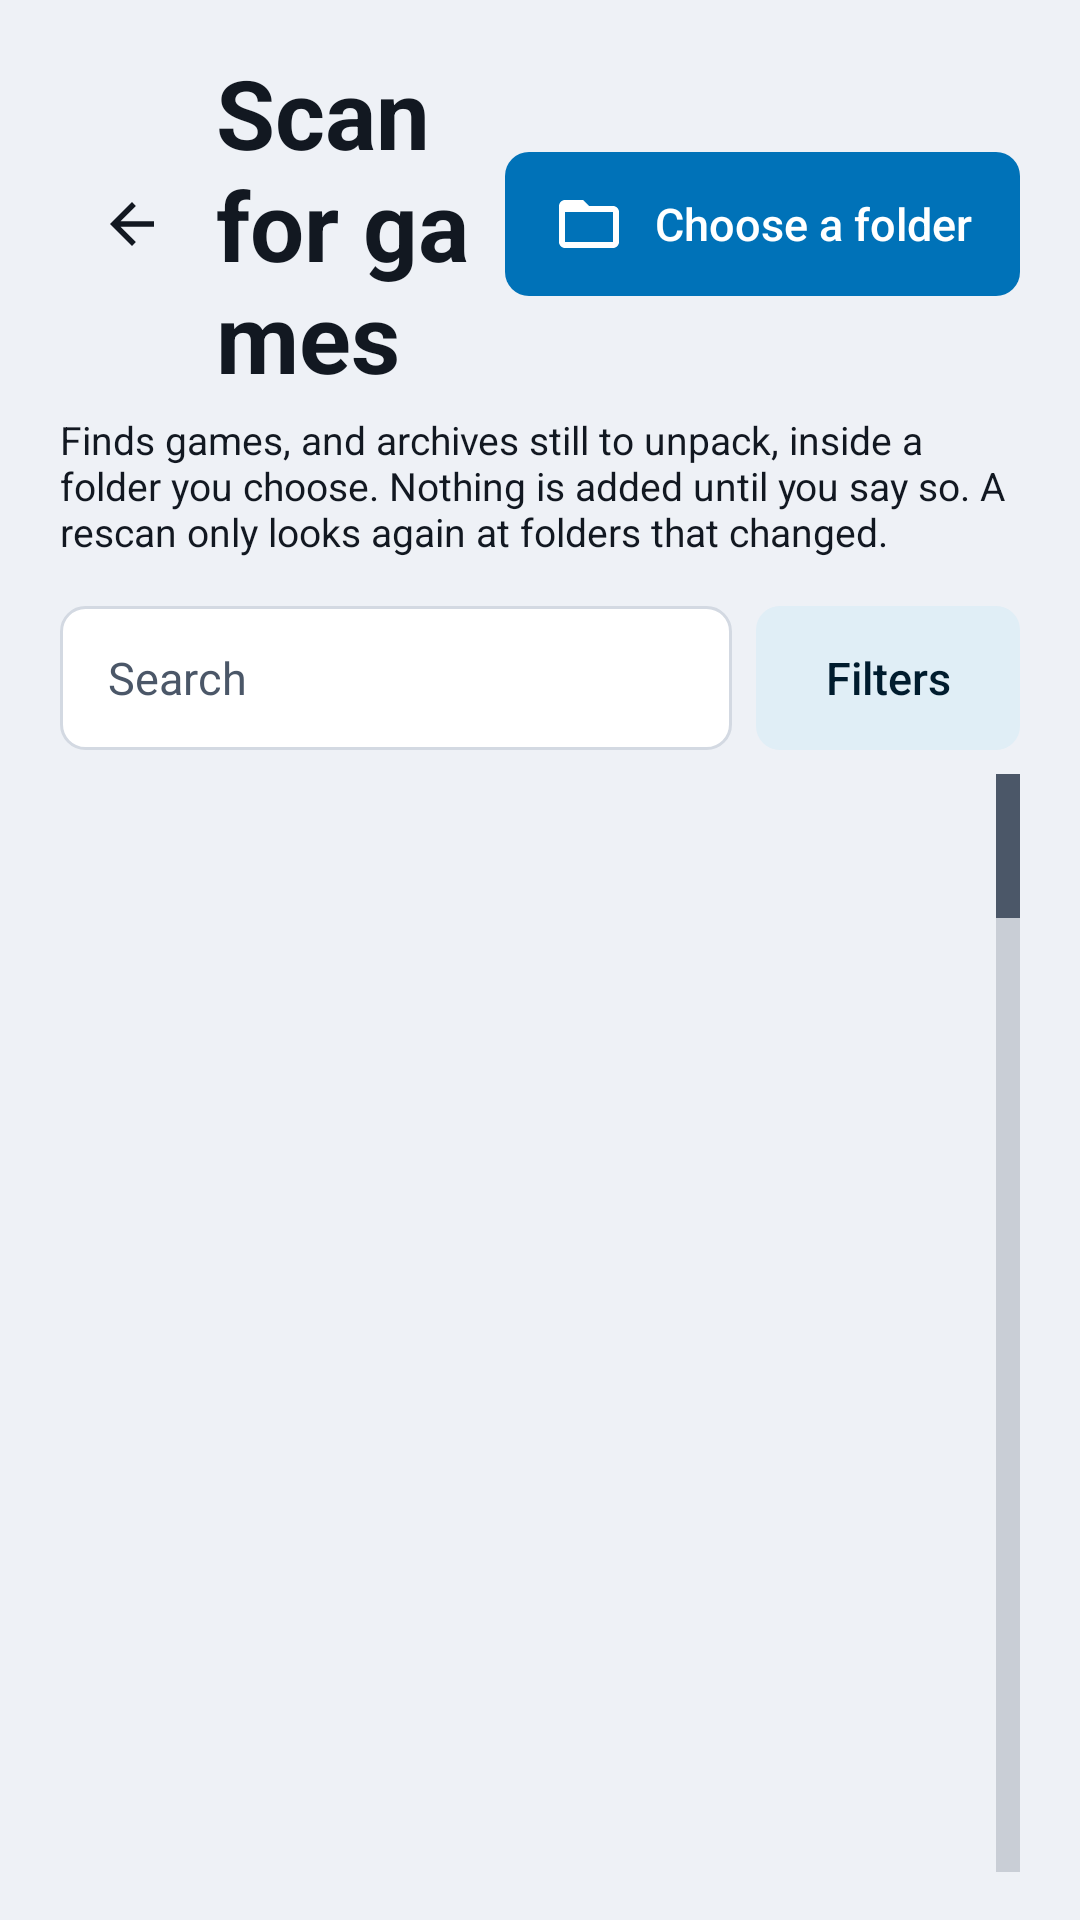

Icon bounding boxes for this 1080px×1920px phone screenshot, format (x1, y1, x2, y2):
Back: (110, 202, 154, 246)
